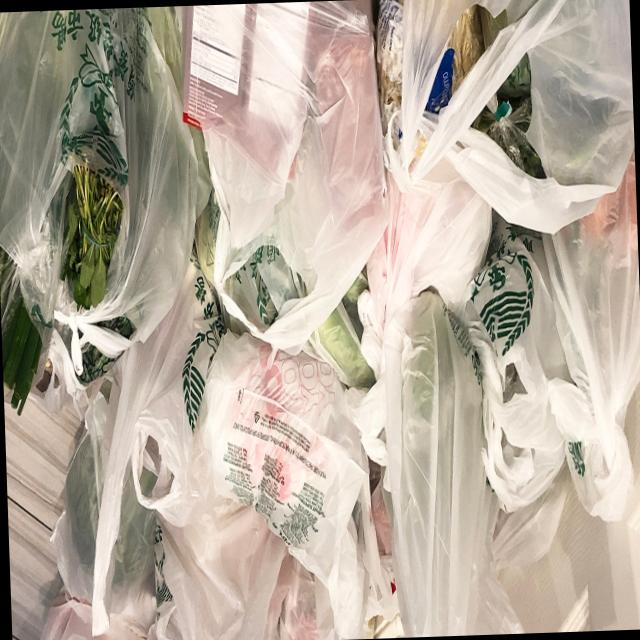plastic_bag: (372, 0, 639, 600), (162, 0, 415, 385), (0, 9, 219, 414)
